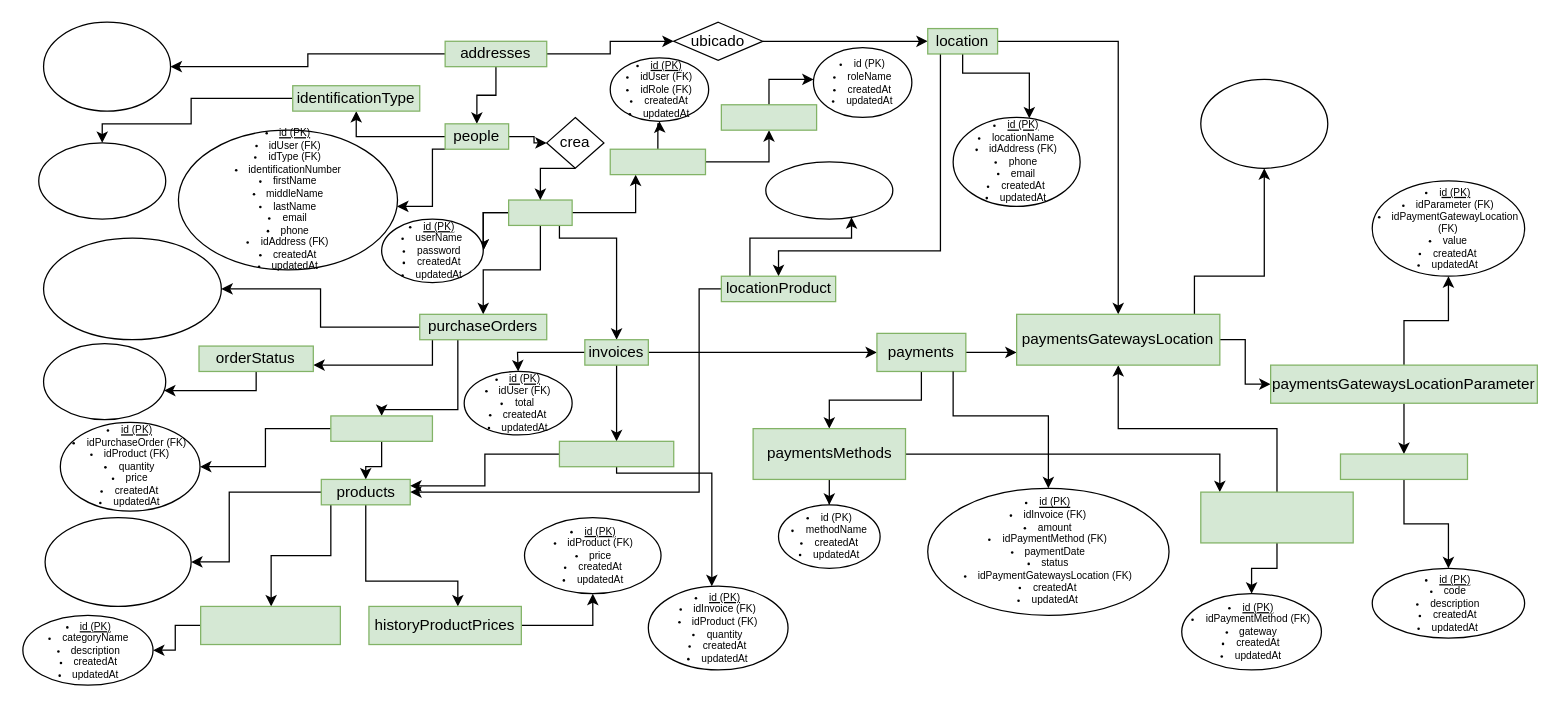
Some shapes in this 1560 by 707 pixel diagram are drawn without their labels. The box of each missing label's shape, as (x1, y1, x2, y2) in pixels:
id (PK) idLocation (FK) idPaymentGateway (FK) createdAt updatedAt: (1200, 78, 1328, 168)
id (PK) idProduct (FK) idLocation (FK) createdAt updatedAt: (765, 161, 893, 219)
id (PK) idSupplier (FK) idStatus (FK) createdAt updatedAt: (42, 237, 221, 340)
id (PK) name createdAt updatedAt: (42, 342, 166, 420)
id (PK) name description price idCategory (FK) createdAt updatedAt: (44, 516, 191, 606)
id (PK) street city state zipCode createdAt updatedAt: (42, 21, 171, 111)
id (PK) type createdAt updatedAt: (37, 142, 166, 219)
invoicesDetails: (558, 440, 674, 467)
orderDetails: (330, 415, 432, 441)
parameter: (1339, 453, 1467, 479)
paymentsGateways: (1200, 491, 1353, 543)
productsCategories: (199, 605, 340, 645)
roles: (720, 104, 817, 130)
user: (507, 199, 572, 225)
userRoles: (609, 148, 705, 175)
